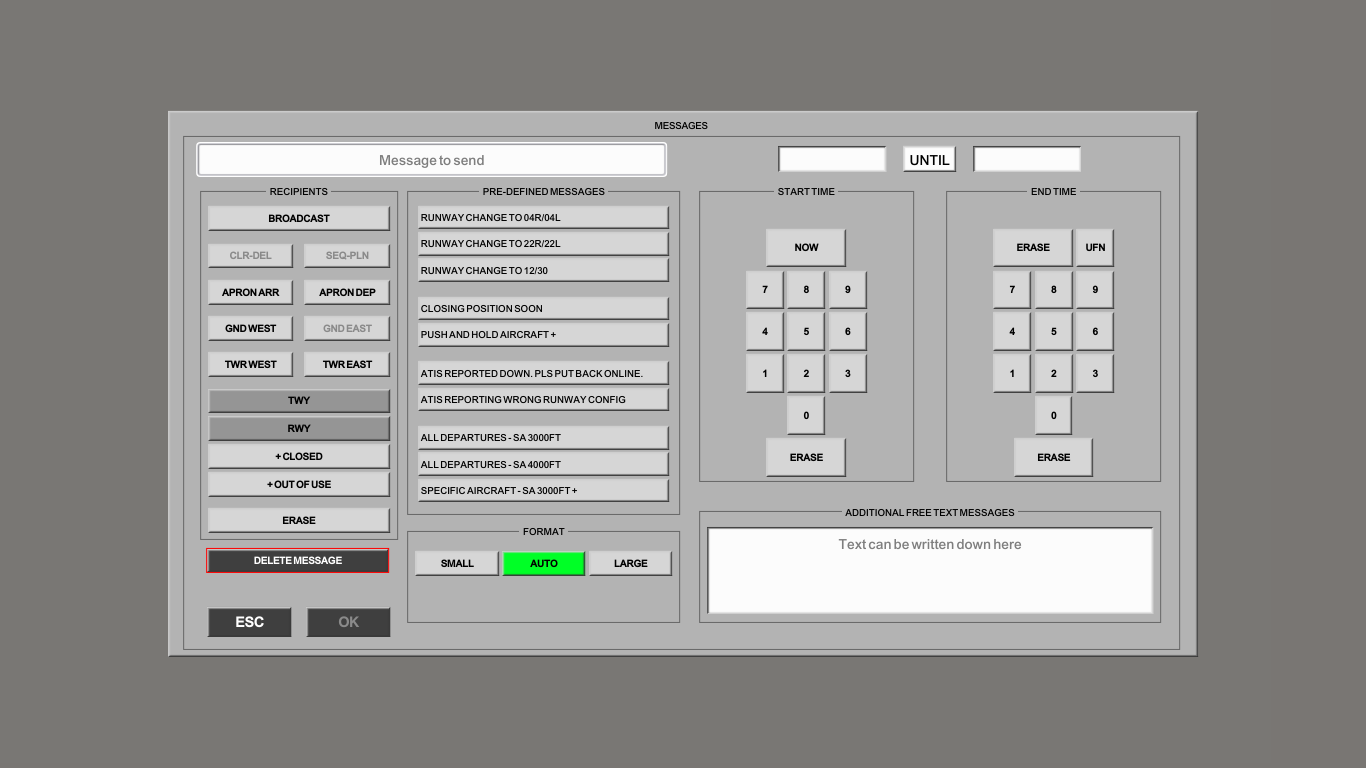
message composition › supports NOW, UFN and erasing each time independently
Step 1. Click the button "CLOSING POSITION SOON" → [544, 309], box top-left (418, 297), bottom-right (670, 320)
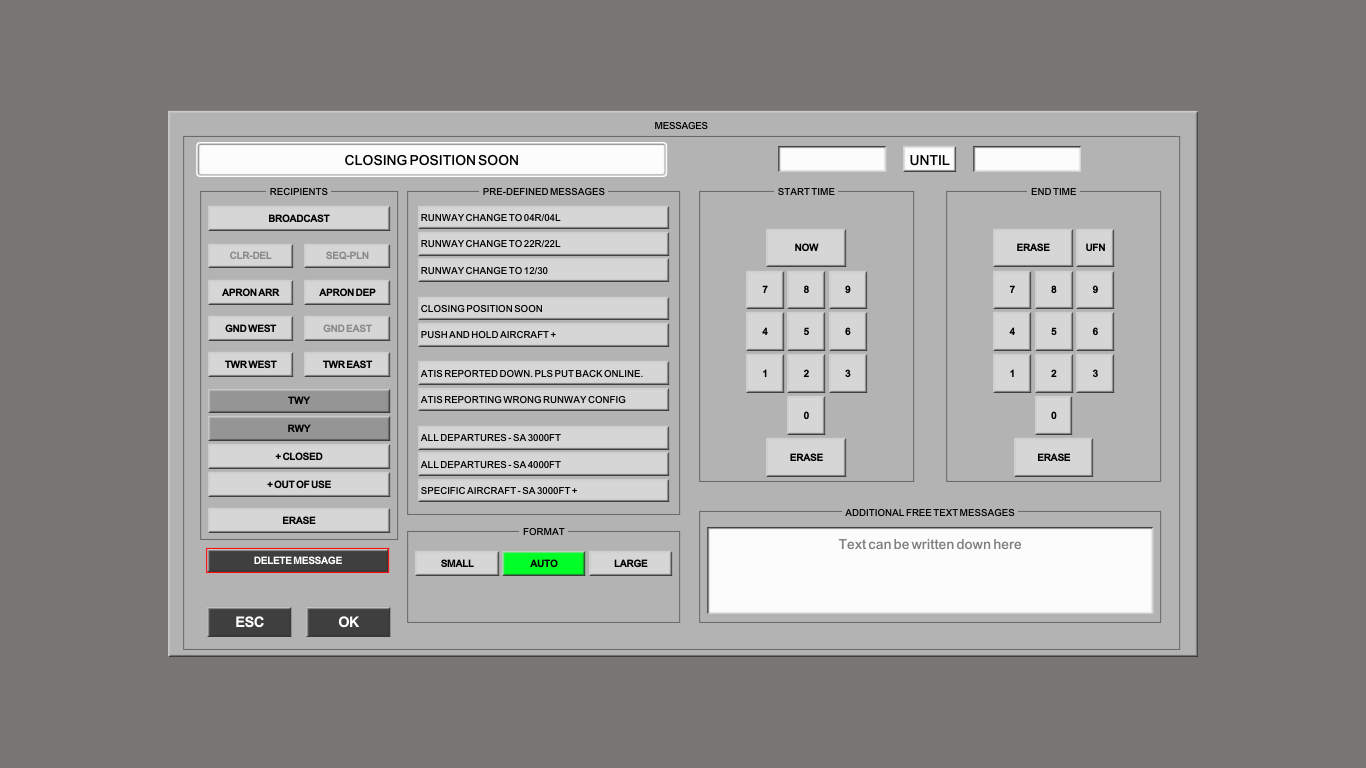
Step 2. Click the button with aria-label "Start time NOW" → [806, 248], box top-left (766, 228), bottom-right (846, 267)
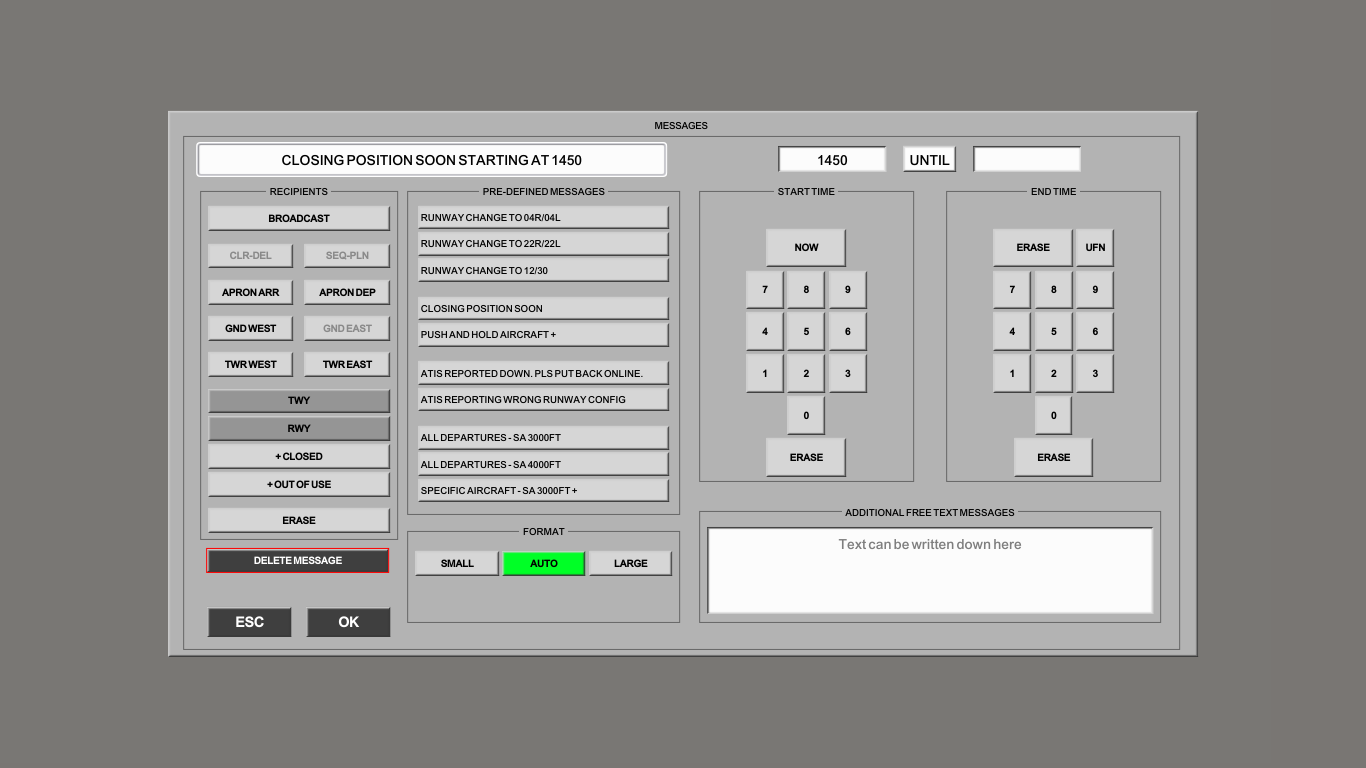
Step 3. Click the button with aria-label "End time UFN" → [1095, 248], box top-left (1076, 228), bottom-right (1114, 267)
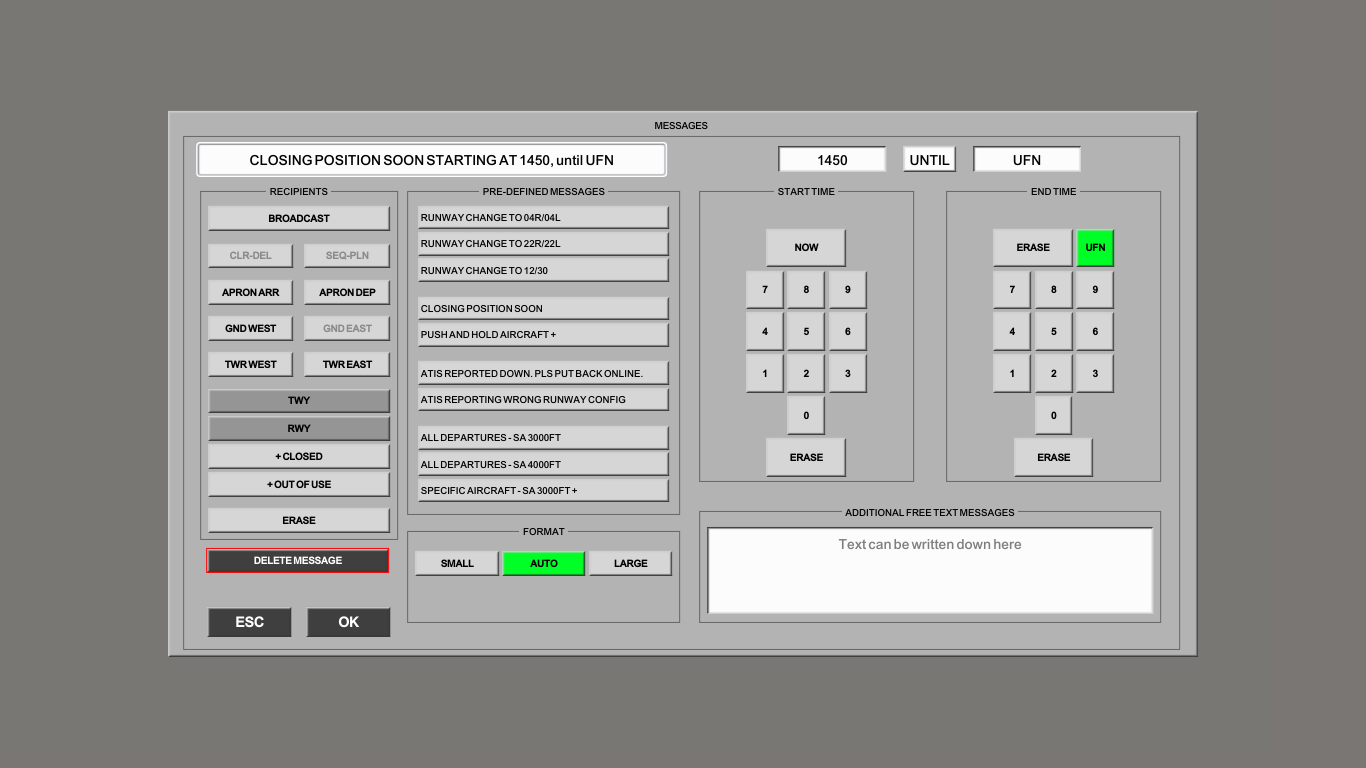
Expected: the text box named "Message to send" holds "CLOSING POSITION SOON STARTING AT 1450, until UFN", top-left (198, 142), bottom-right (666, 176)
Step 4. Click the button with aria-label "Start time clear" → [806, 457], box top-left (766, 438), bottom-right (846, 477)
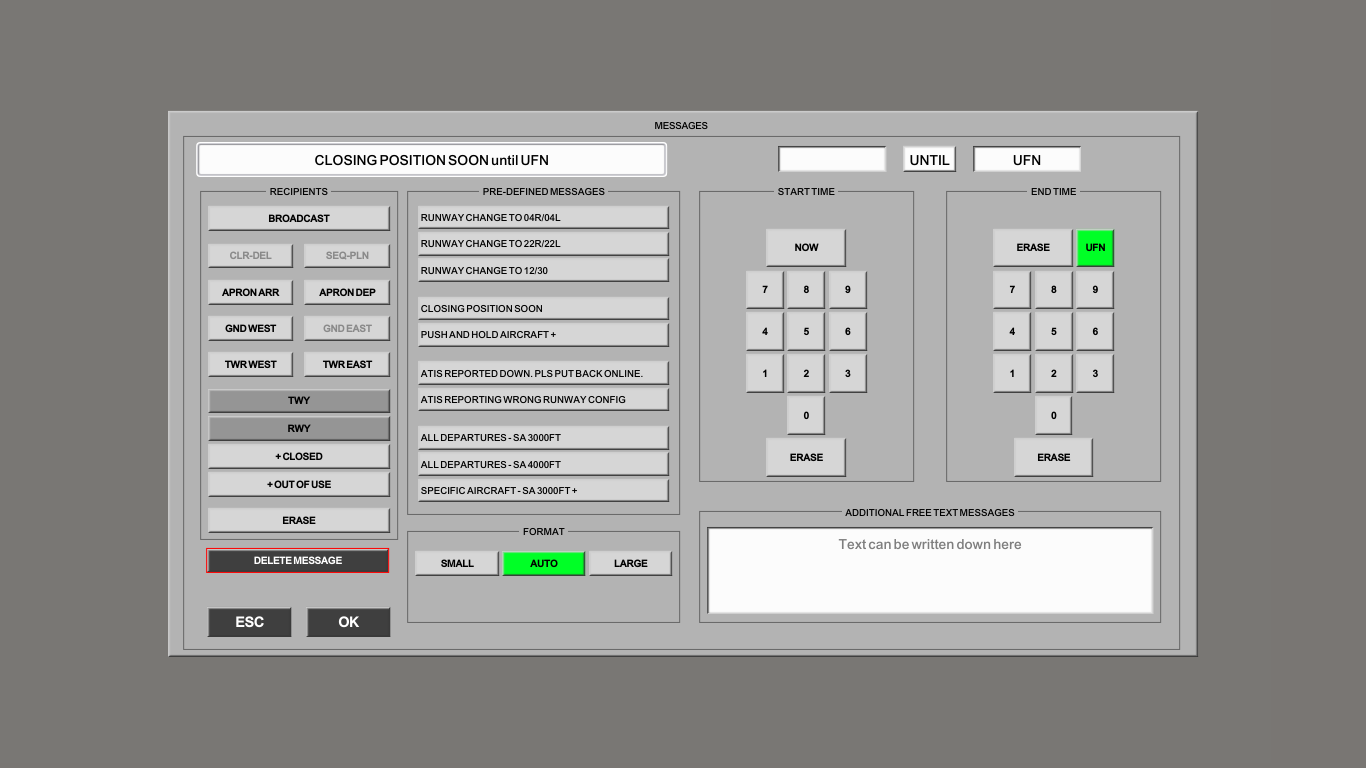
Expected: the text box named "Message to send" holds "CLOSING POSITION SOON until UFN", top-left (198, 142), bottom-right (666, 176)
Step 5. Click the button with aria-label "End time clear" → [1054, 457], box top-left (1014, 438), bottom-right (1094, 477)
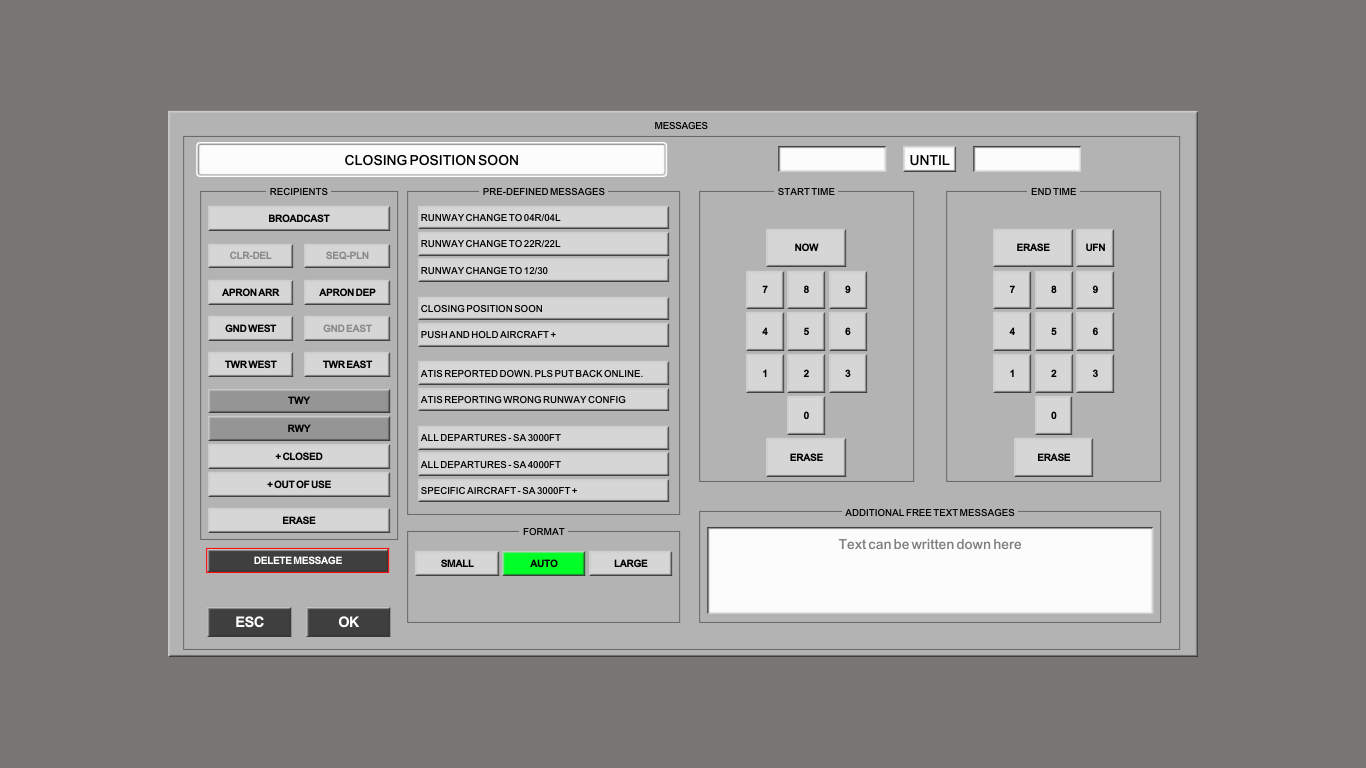
Expected: the text box named "Message to send" holds "CLOSING POSITION SOON", top-left (198, 142), bottom-right (666, 176)
